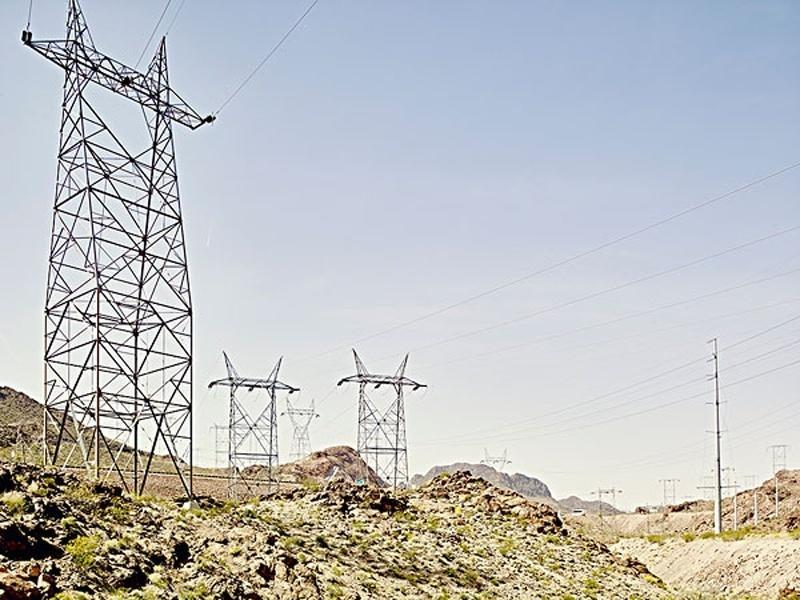power_tower: (17, 2, 218, 510), (334, 343, 430, 484), (200, 341, 289, 482), (284, 391, 322, 460), (588, 478, 626, 544), (478, 445, 514, 476), (649, 473, 686, 502), (766, 440, 790, 473)
